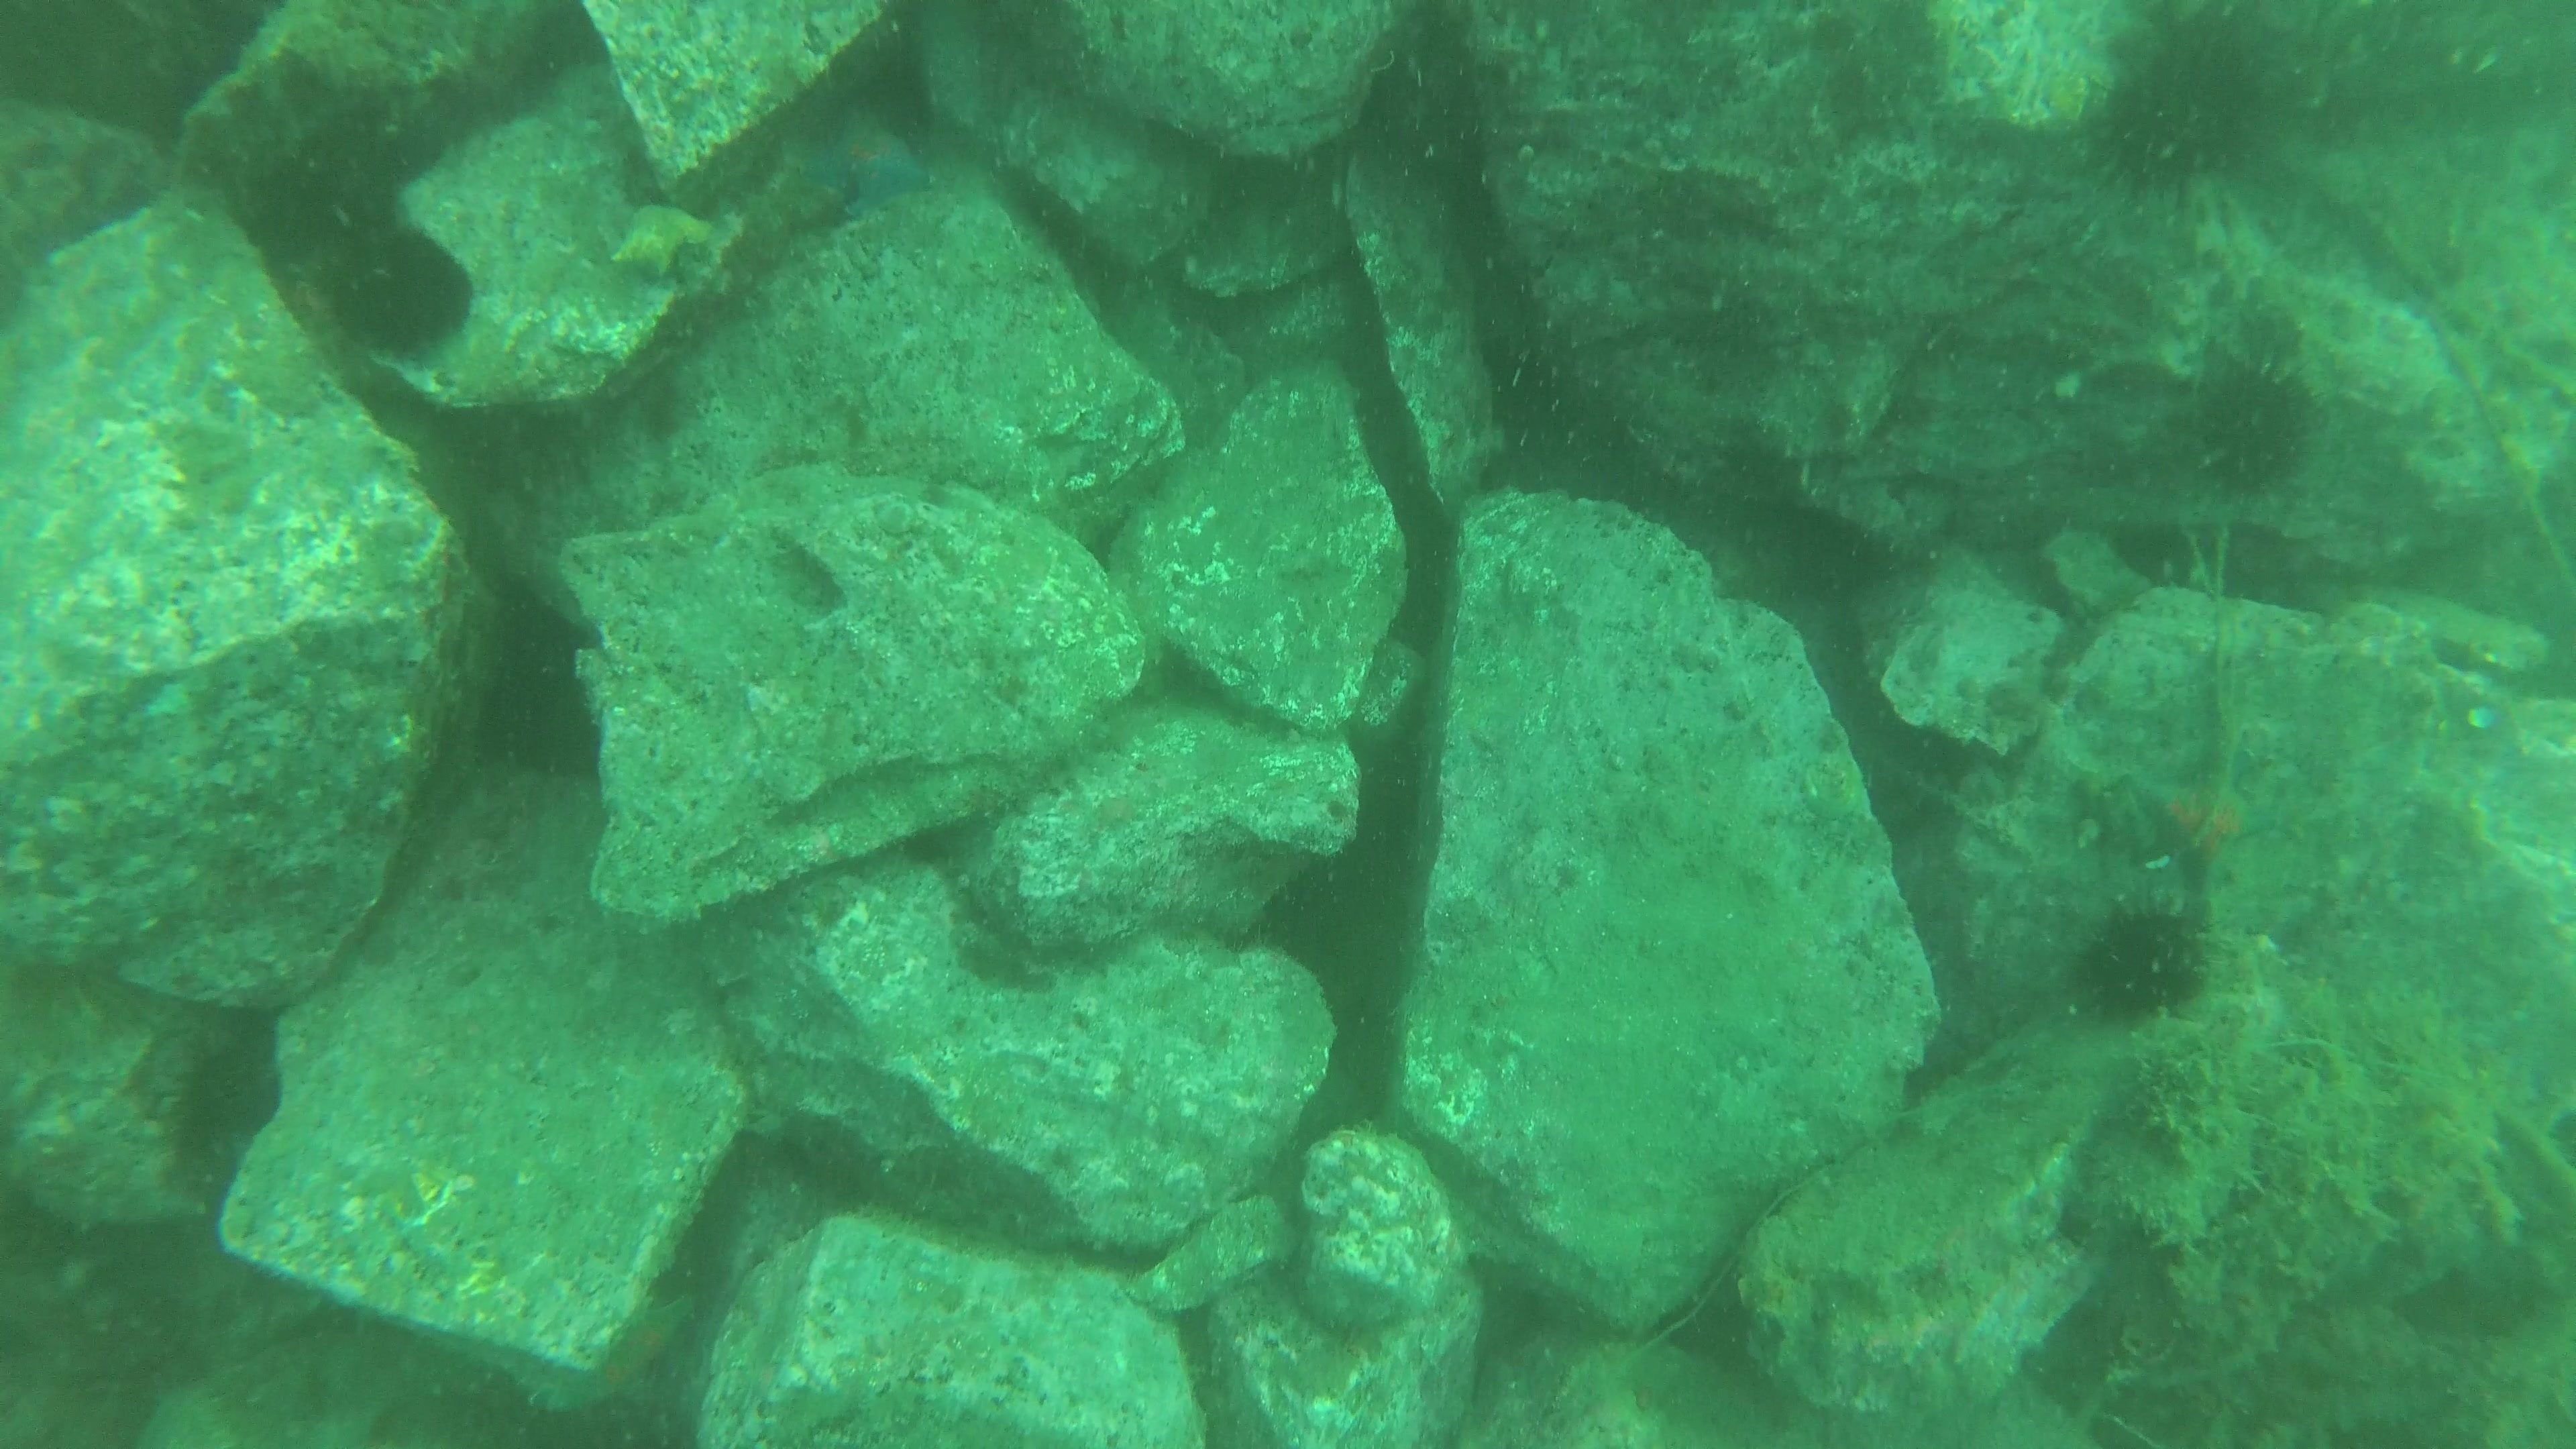echinus: (2081, 9, 2289, 205), (322, 219, 479, 364), (2180, 350, 2321, 499), (2065, 897, 2215, 1030)
starfish: (2125, 747, 2284, 890), (786, 103, 939, 216)
